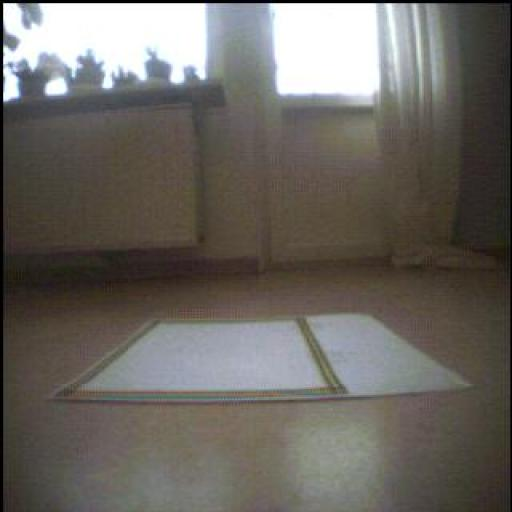Pad: (54, 315, 470, 404), (309, 315, 472, 398)
